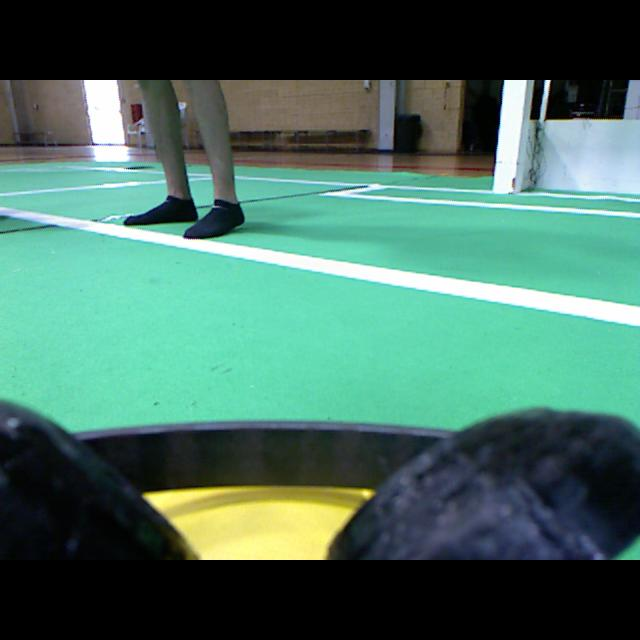ball: (144, 487, 369, 558)
goal: (493, 80, 527, 192)
